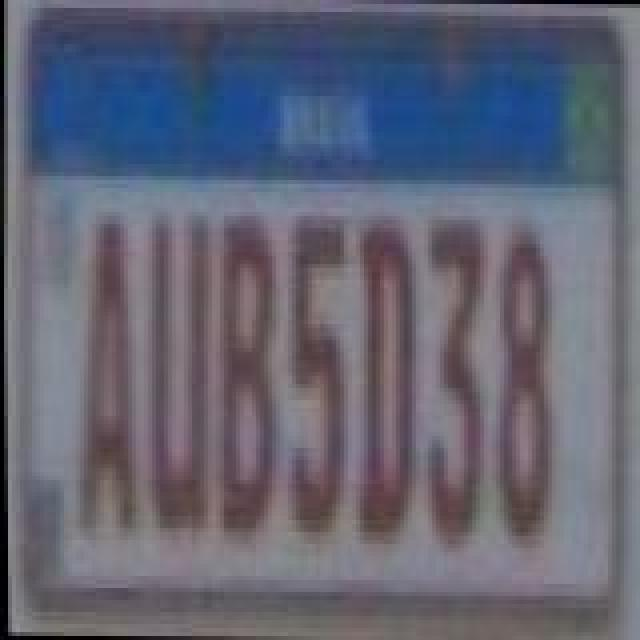3: (418, 208, 486, 548)
5: (282, 204, 350, 532)
8: (488, 222, 556, 546)
A: (74, 206, 142, 538)
B: (212, 212, 276, 536)
D: (354, 224, 422, 532)
U: (146, 214, 214, 534)
